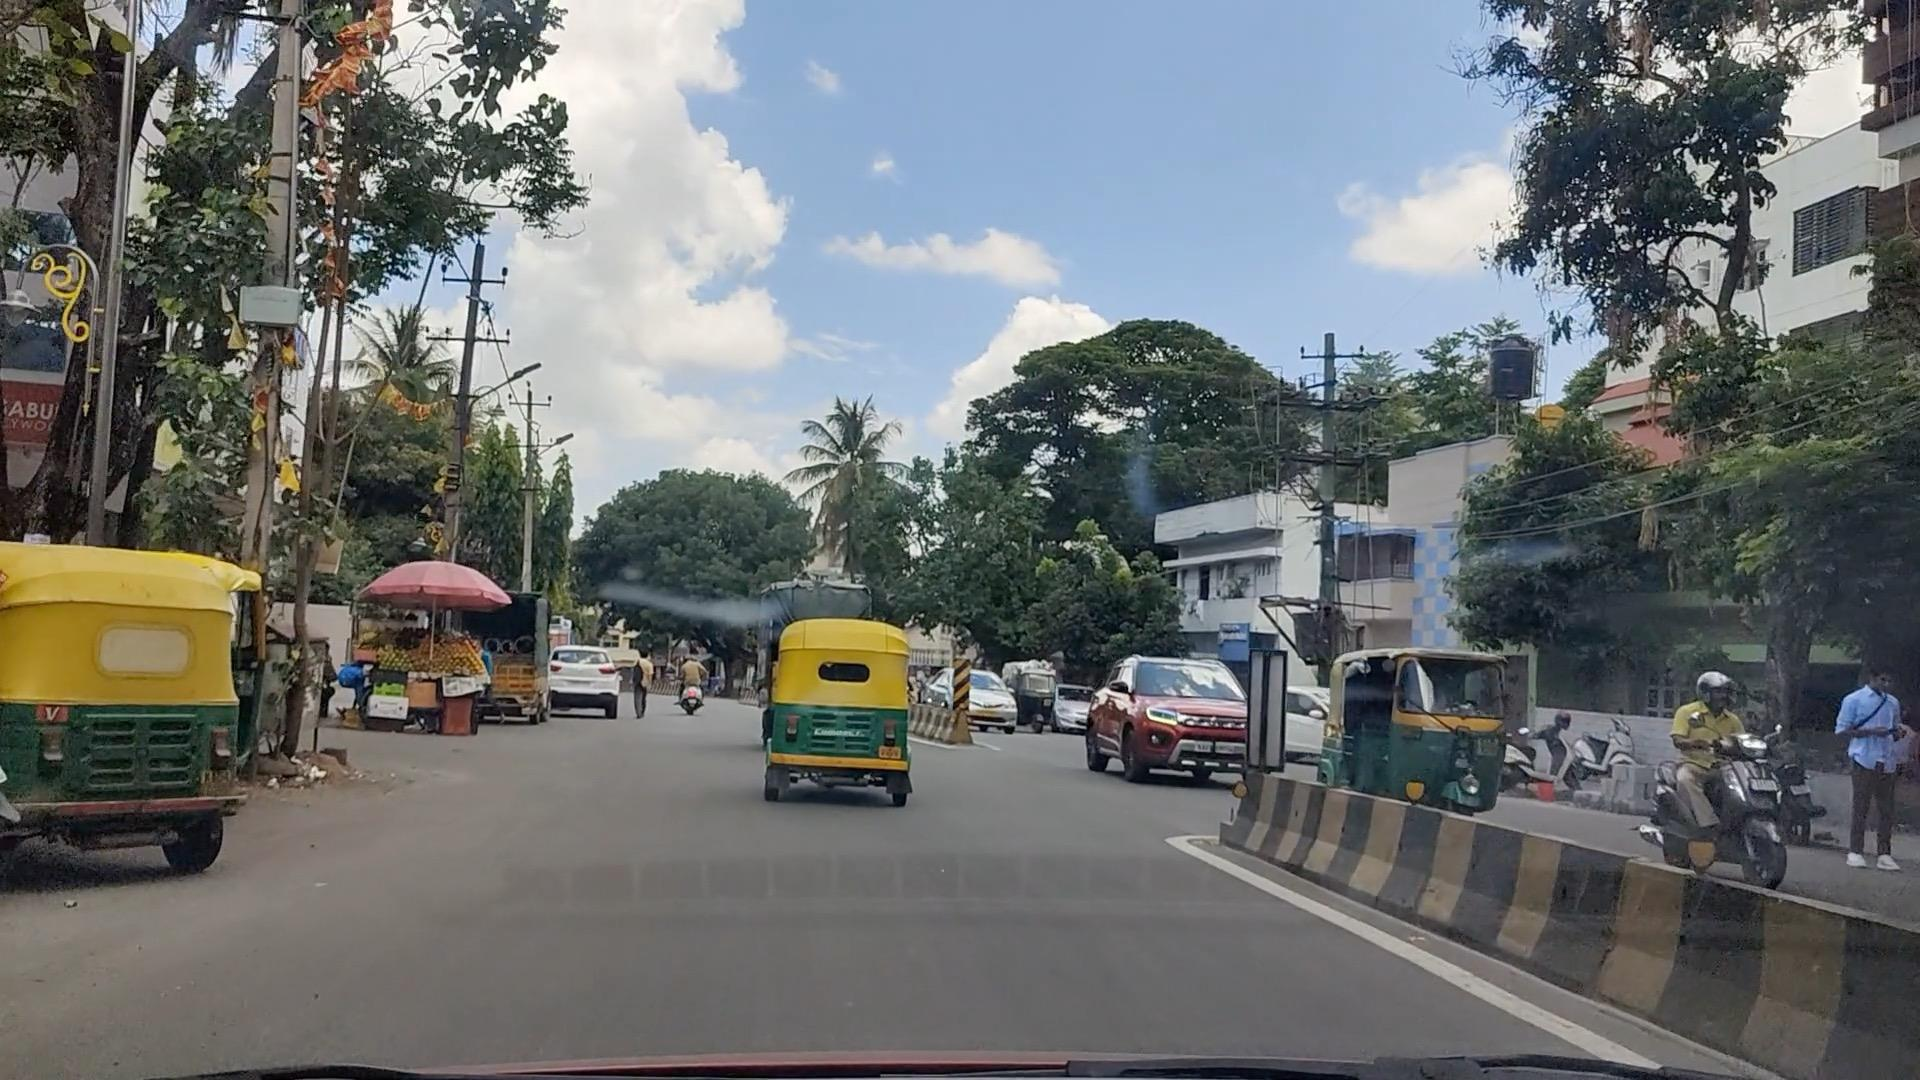LMV: (777, 633, 914, 796)
